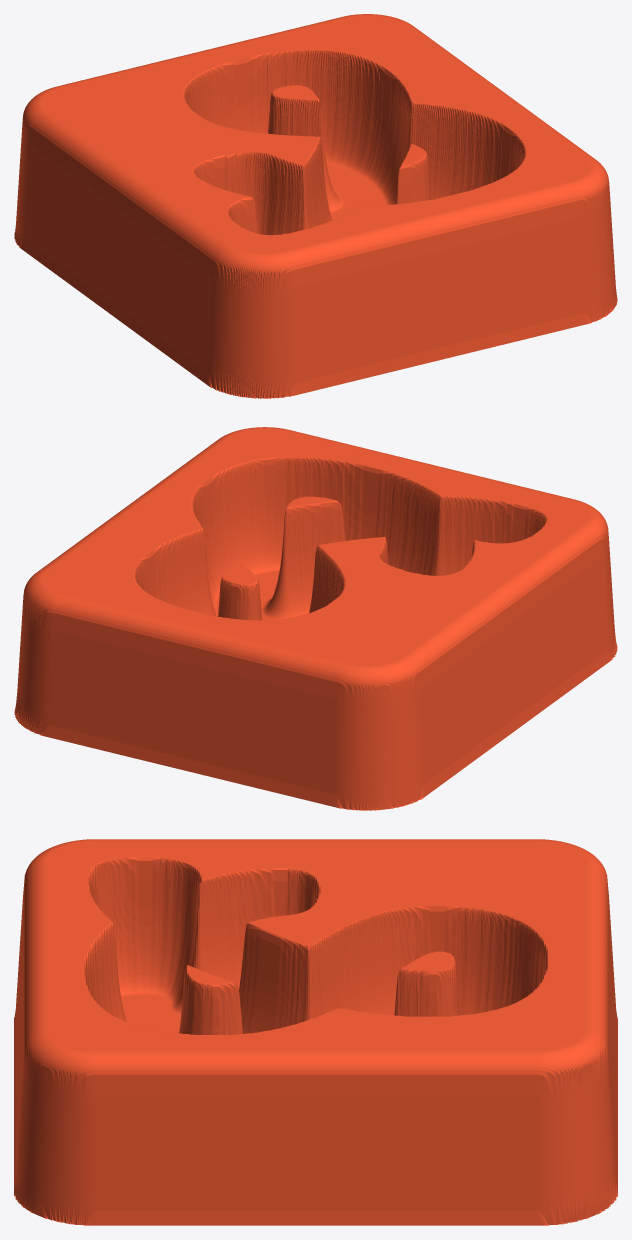
File: mold.glb
The picture shows the model from 3 angles, top to bottom: view 1: azimuth 30°, elevation 25°; view 2: azimuth 150°, elevation 25°; view 3: azimuth 270°, elevation 25°; orthographic projection. The views are drawn at different scales.
Parts seen in each view (by area): view 1: geometry_0; view 2: geometry_0; view 3: geometry_0.
Part boxes in pixels (left/top/right/bottom): geometry_0: left=14, top=14, right=617, bottom=398; geometry_0: left=14, top=427, right=617, bottom=810; geometry_0: left=14, top=839, right=617, bottom=1225.
Bounding box in the file's own units: 0.0622 × 0.0197 × 0.067.
